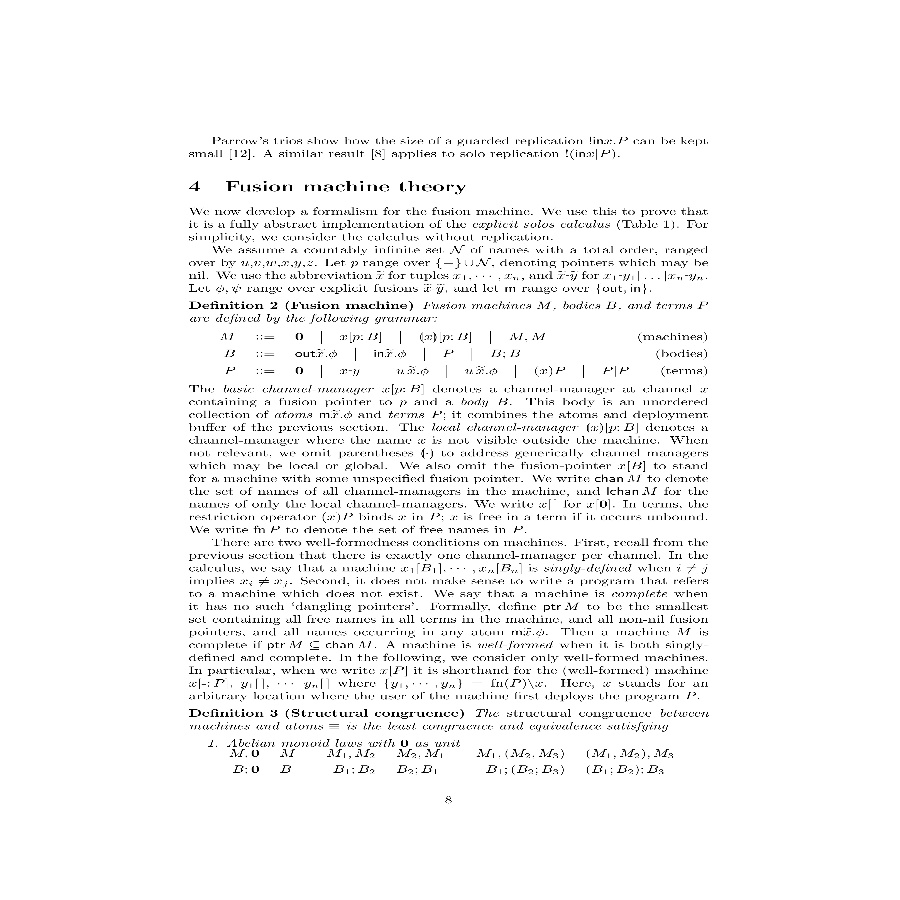eq: (224, 364, 632, 378), (217, 328, 548, 344), (218, 348, 536, 361)
